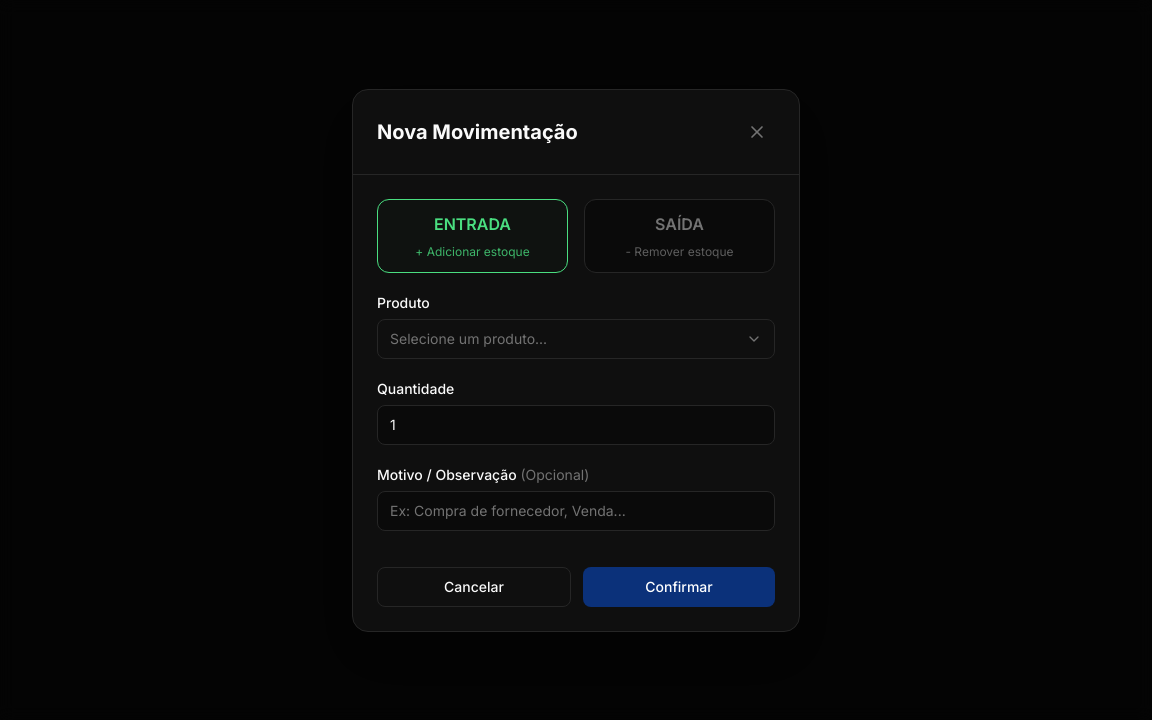
Test case: MovementModal Component › deve exibir erro se tentar submeter sem selecionar um produto
Click the button "Confirmar" at [679, 586], box [583, 566, 775, 606]
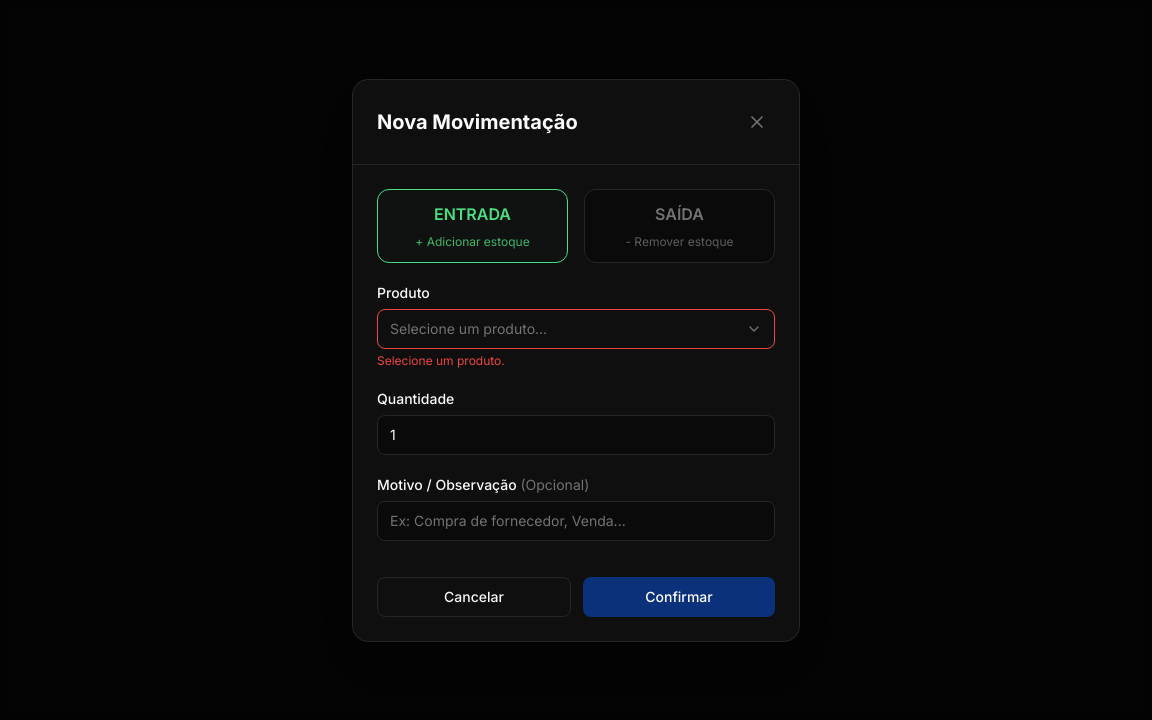
Result: the text "Selecione um produto." is shown at [377, 352, 505, 368]
